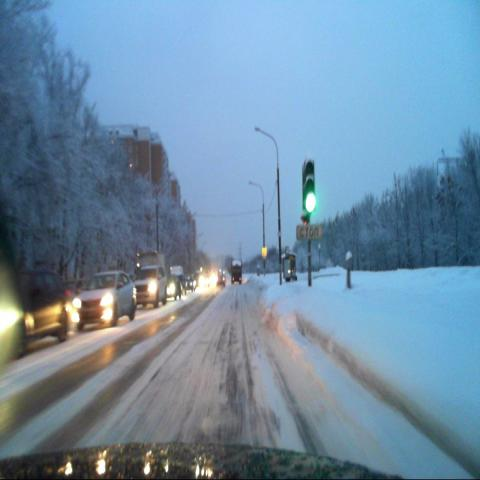6_16: (297, 225, 320, 243)
